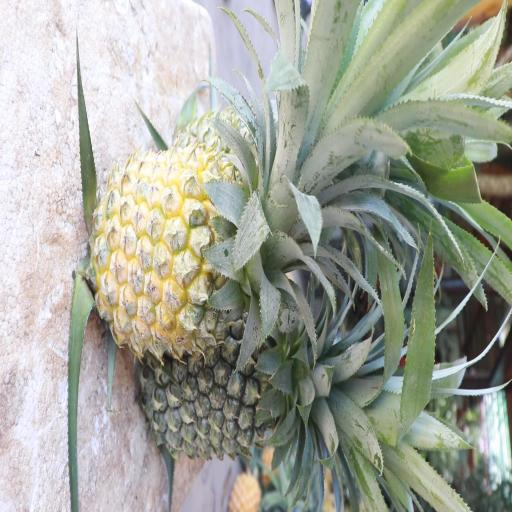Pineapple - v8 v1: (94, 150, 306, 353)
